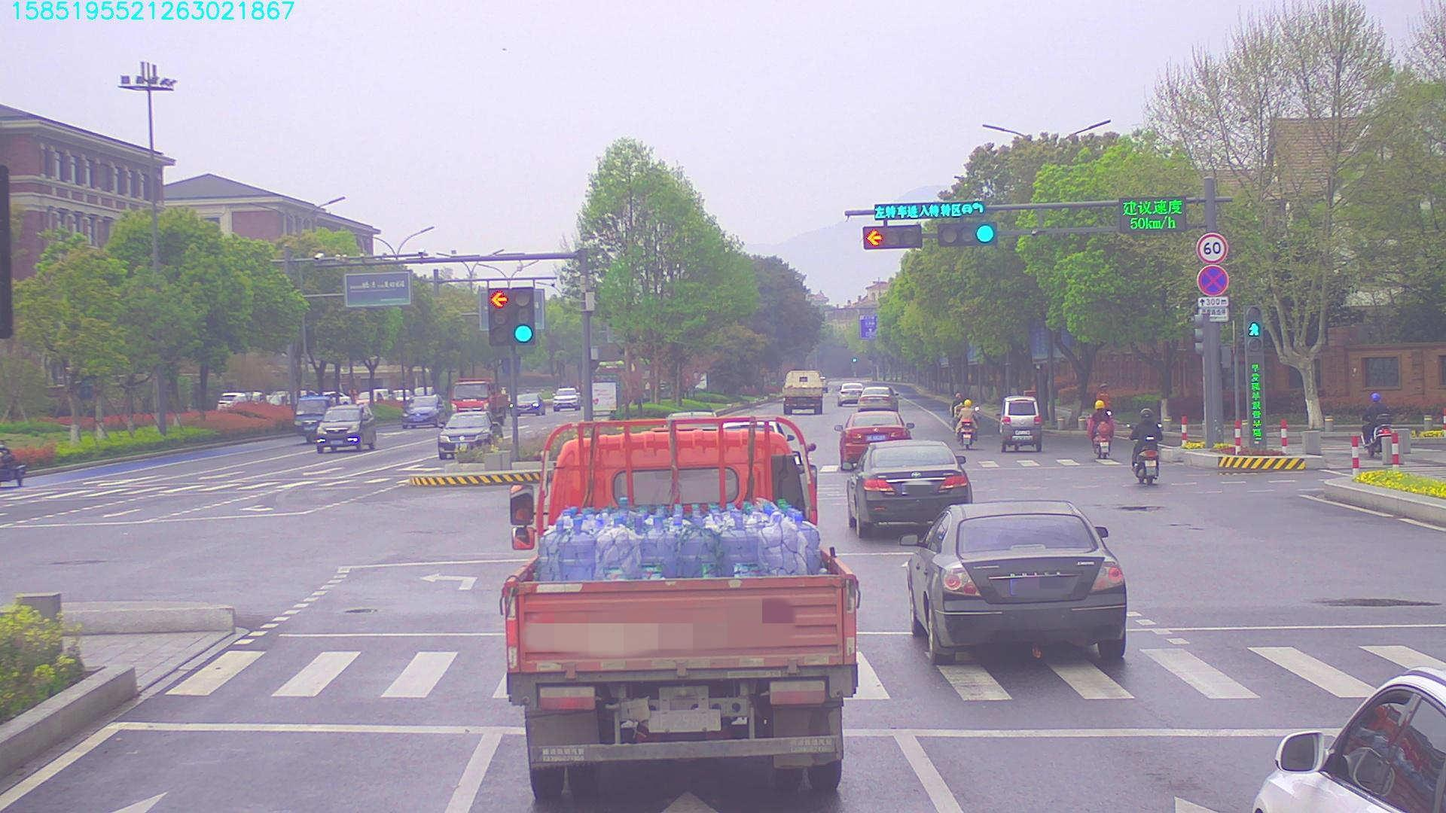green: (935, 219, 992, 242)
red: (864, 224, 923, 246)
wait_on: (872, 202, 986, 220)
